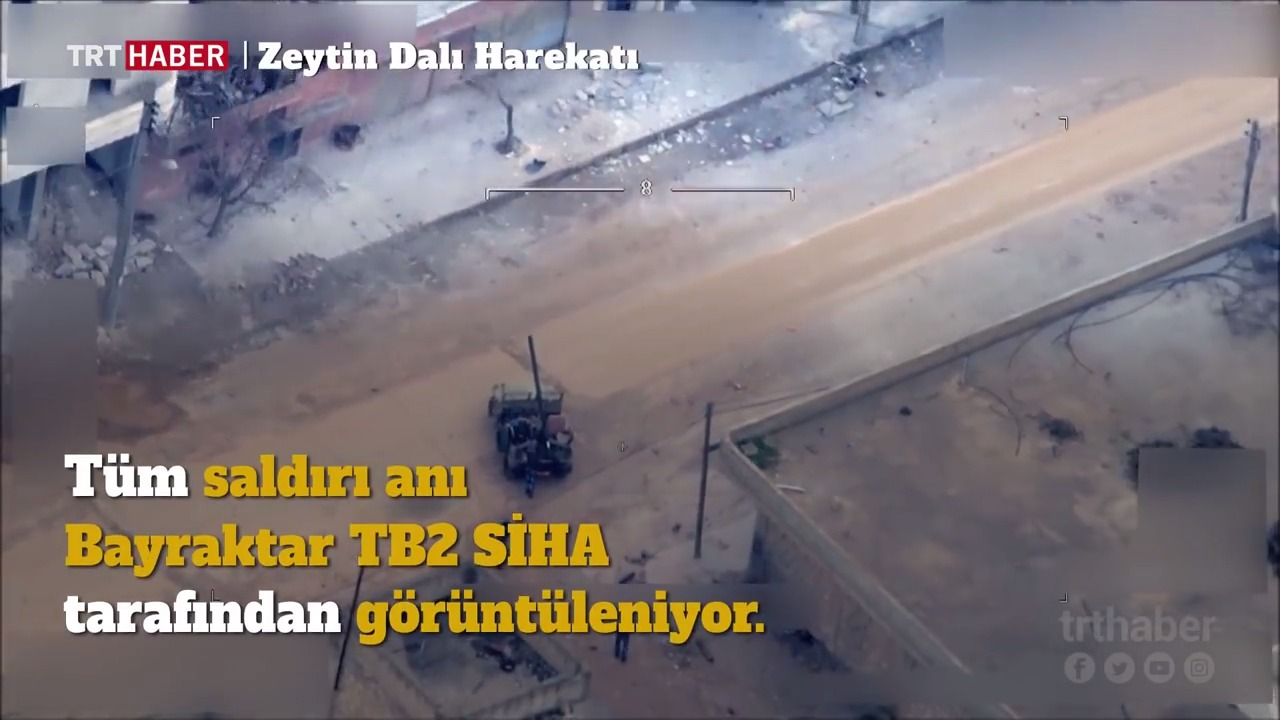arac: (477, 333, 577, 494)
